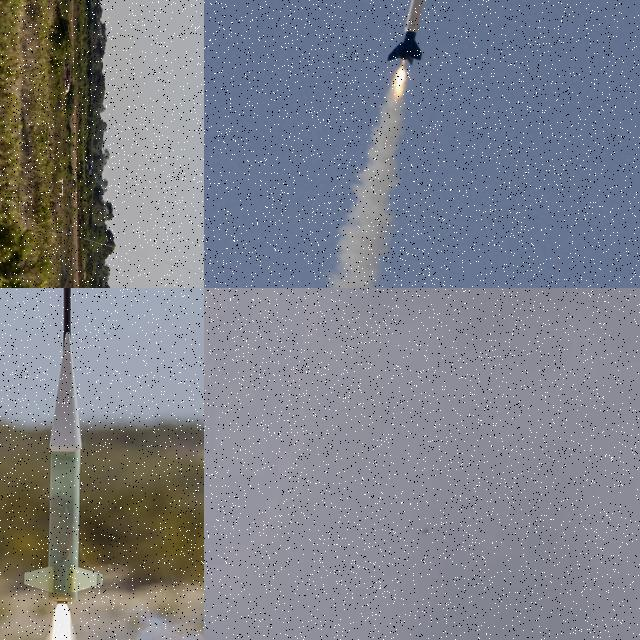Rocket: (22, 332, 107, 606), (388, 0, 432, 65), (422, 528, 430, 535)
